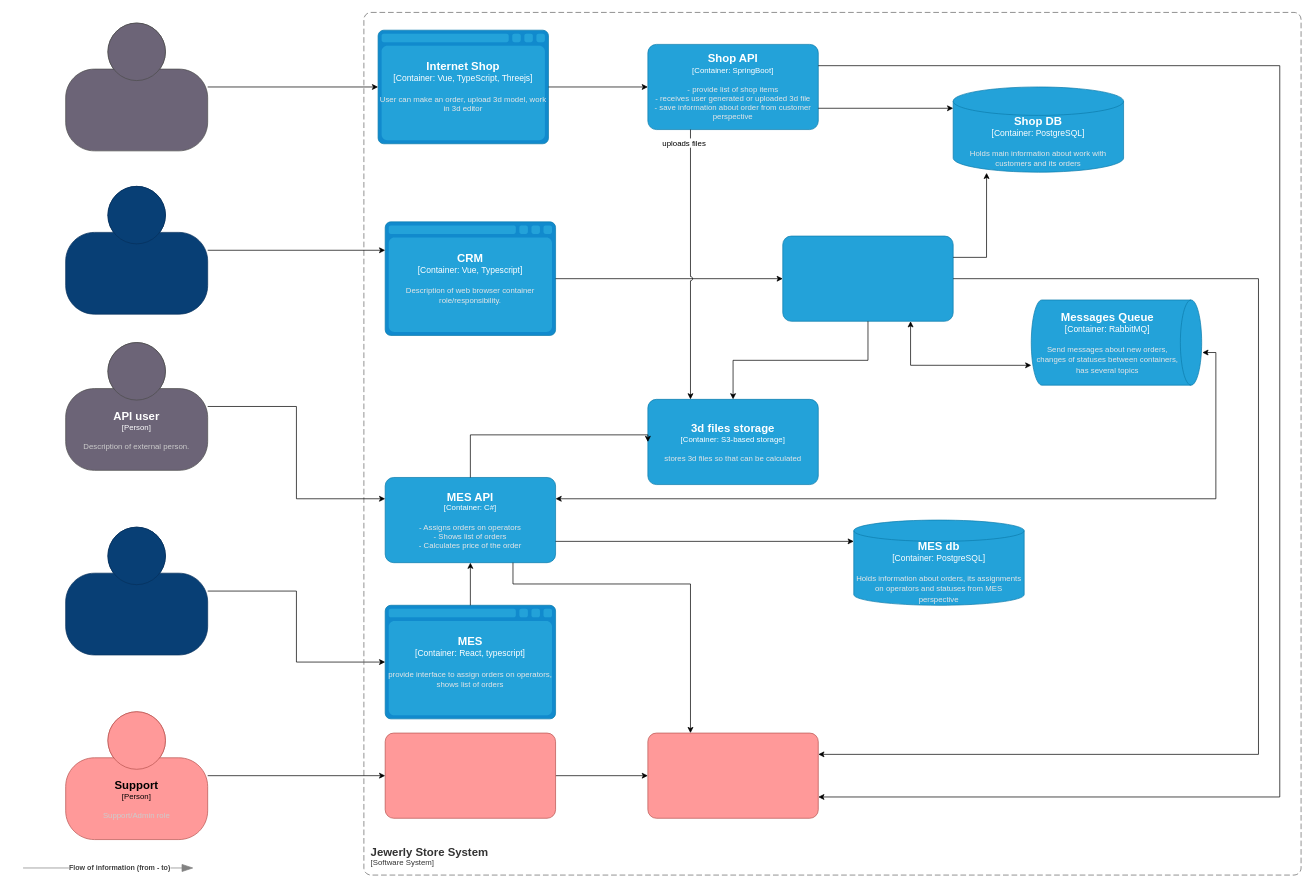
This 1314x892 diagram has some shape labels left out. Here are the shapes that lost their labels. From the top down, the centre of each, then its label:
[136,86]: Customer [Person] Description of external person.
[136,250]: Seller [Person] Operates with order, confirms manufacturing for the user
[867,278]: CRM API [Container: SpringBoot] Description of container role/responsibility.
[136,590]: Operator [Person] Takes order in work, manufactures jewerly
[470,775]: Jaeger [Container: Open Telemetry] Open Telemetry GUI
[732,775]: OTel Collector [Container: Open Telemetry] Open Telemetry Collector
